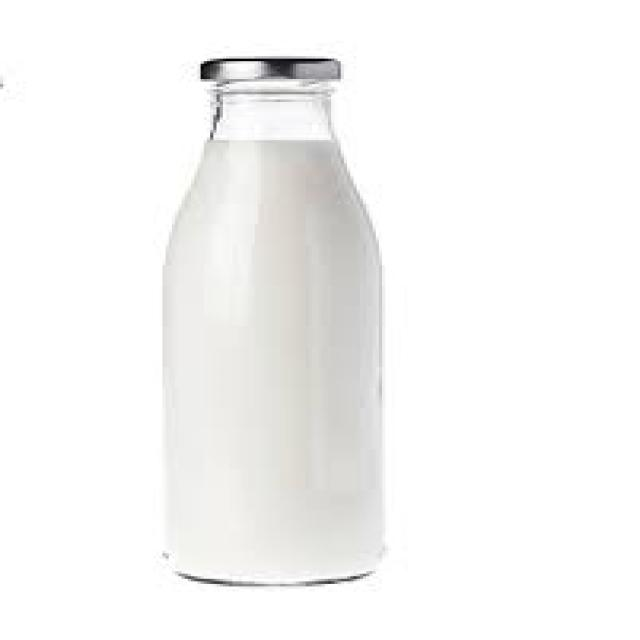glass: (159, 76, 379, 584)
metal: (198, 56, 335, 79)
